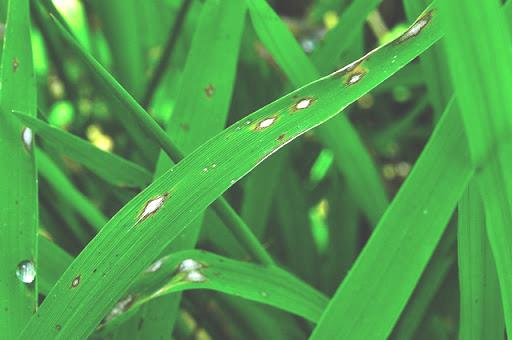1 RiceBlast: (391, 11, 438, 41), (130, 188, 173, 218), (17, 121, 42, 159), (333, 65, 369, 85), (255, 111, 281, 132), (292, 89, 316, 111)
